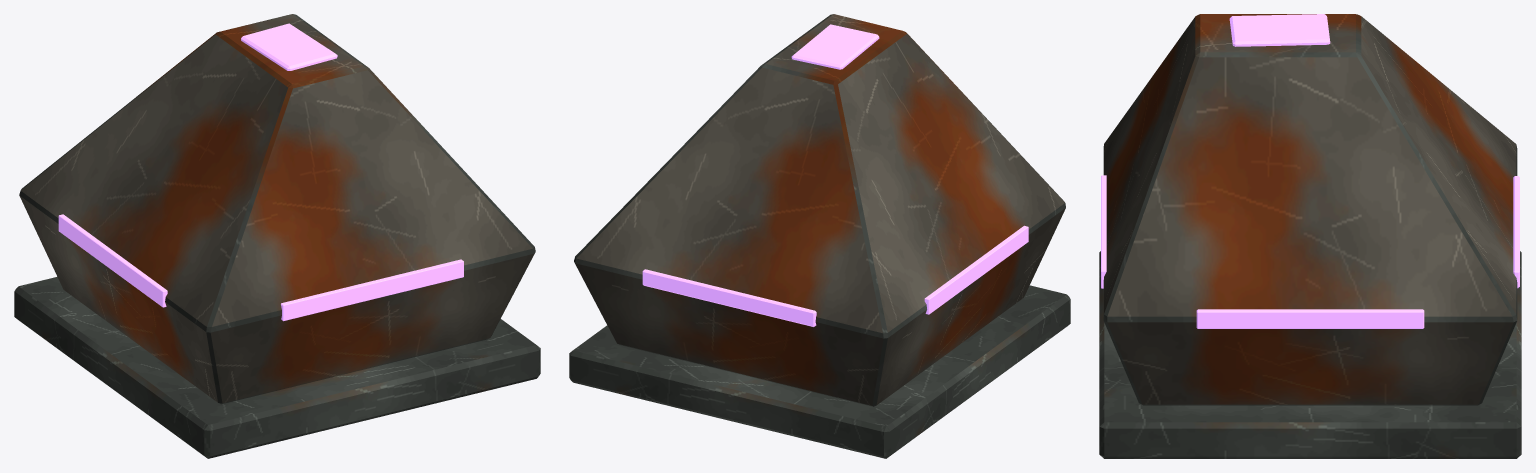
Rendered from R4X_Stealth_LOD1.glb.
The picture shows the model from 3 angles, left to right: view 1: azimuth 30°, elevation 25°; view 2: azimuth 150°, elevation 25°; view 3: azimuth 270°, elevation 25°; orthographic projection. The views are drawn at different scales.
Parts seen in each view (by area): view 1: R4X_Stealth_LOD1; view 2: R4X_Stealth_LOD1; view 3: R4X_Stealth_LOD1.
Boxes of the visible parts, x1,y1,x2,y2 form: R4X_Stealth_LOD1: [14, 14, 540, 458]; R4X_Stealth_LOD1: [569, 14, 1070, 458]; R4X_Stealth_LOD1: [1099, 14, 1521, 458].
Size of the model in its own units: 0.52 by 0.466 by 0.52.
Materials: 3 (2 with a texture image).
